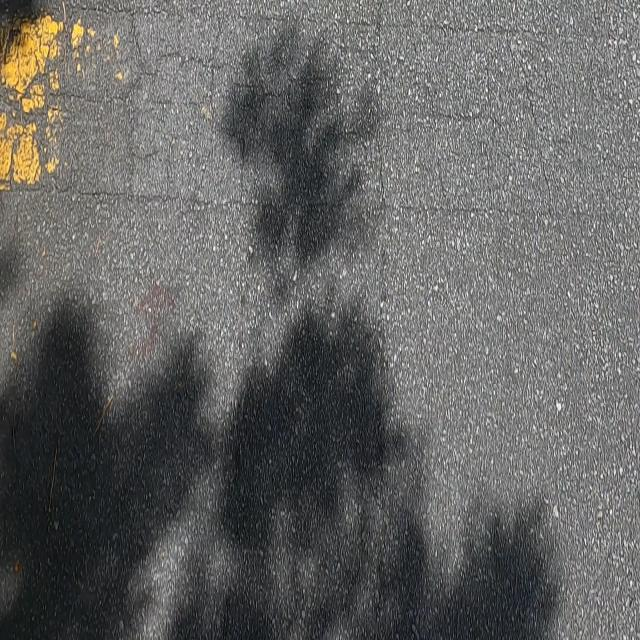Retak-Buaya: (0, 7, 555, 214)
